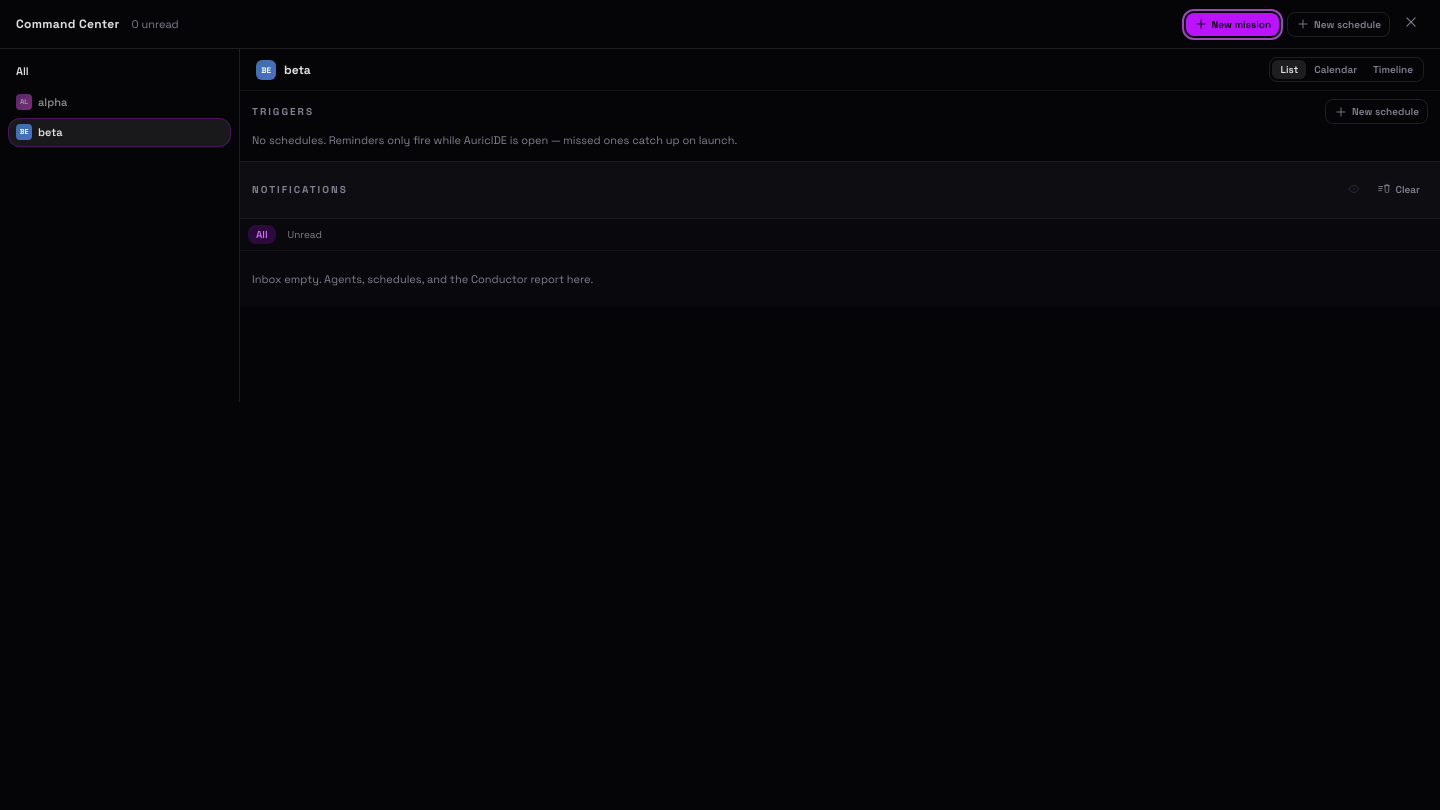
Scenario: CommandCenter › the schedule editor › pre-binds a new schedule to the selected project, not the open one
What coordinates should you click on to do the following:
click the button with test id "command-center-new-schedule-here"
I would click on:
 (1376, 112)
Its box is [1325,99,1428,124].
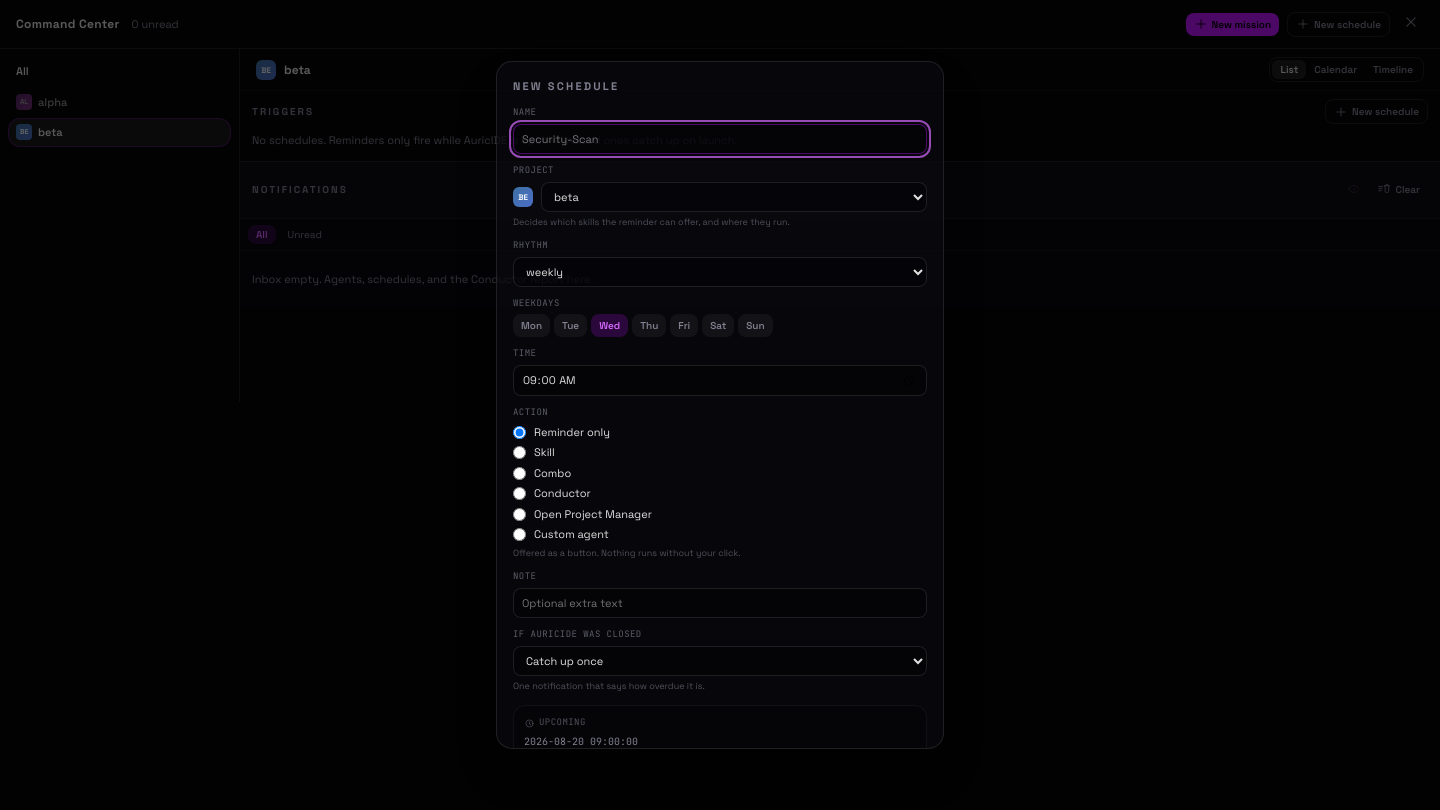
Expected: the dropdown with test id "schedule-project" shows "beta", [541,182,927,212]
